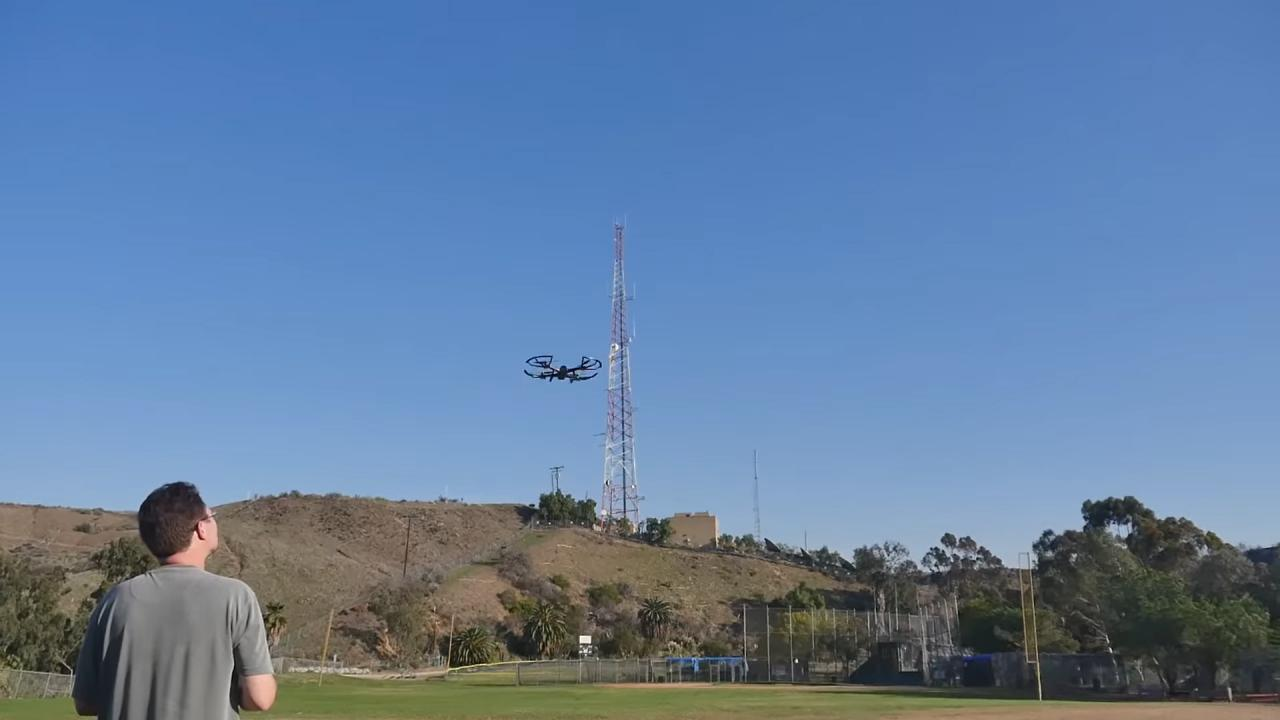Drone: (514, 348, 612, 392)
